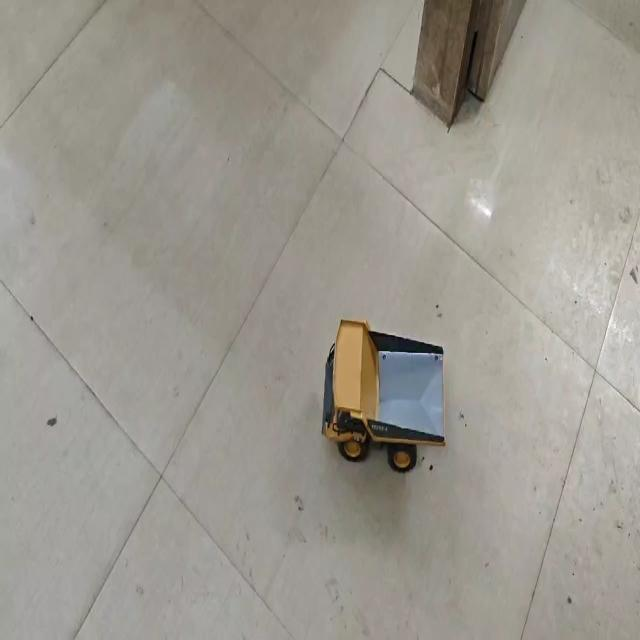dump_truck: (318, 313, 449, 475)
